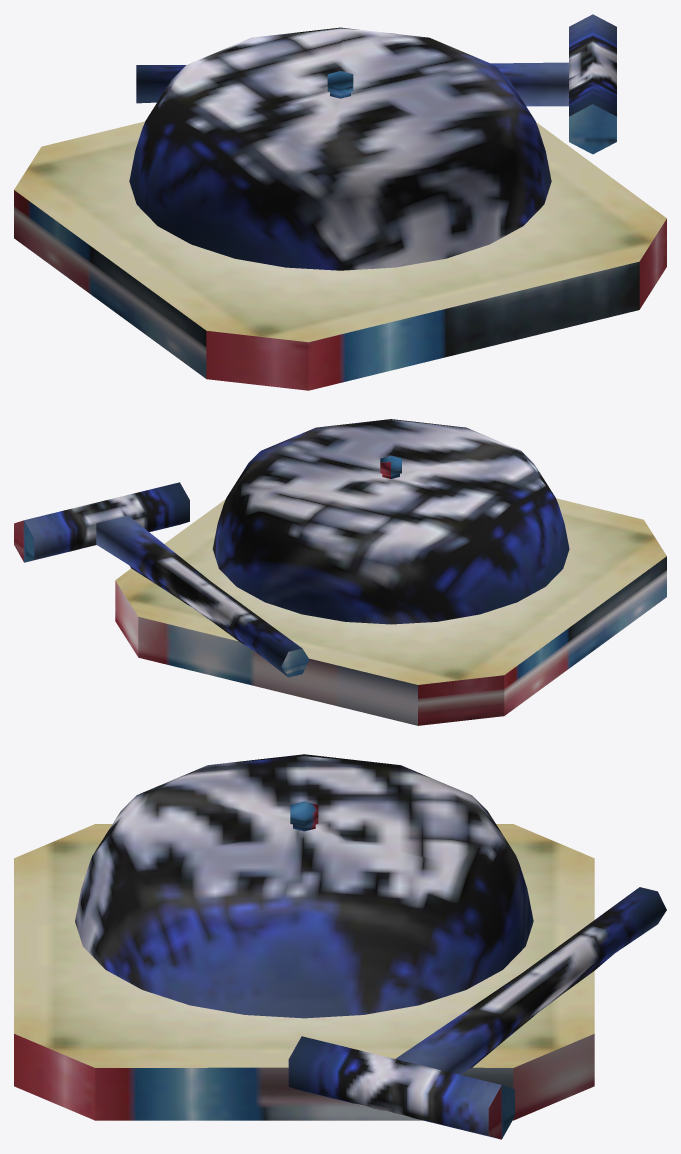
The model's file is wk.ico.obj.
The picture shows the model from 3 angles, top to bottom: view 1: azimuth 30°, elevation 25°; view 2: azimuth 150°, elevation 25°; view 3: azimuth 270°, elevation 25°; orthographic projection. The views are drawn at different scales.
Bounding box in the file's own units: 3.82 × 1.12 × 3.36.
